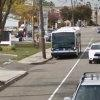Bus: (48, 25, 87, 62)
